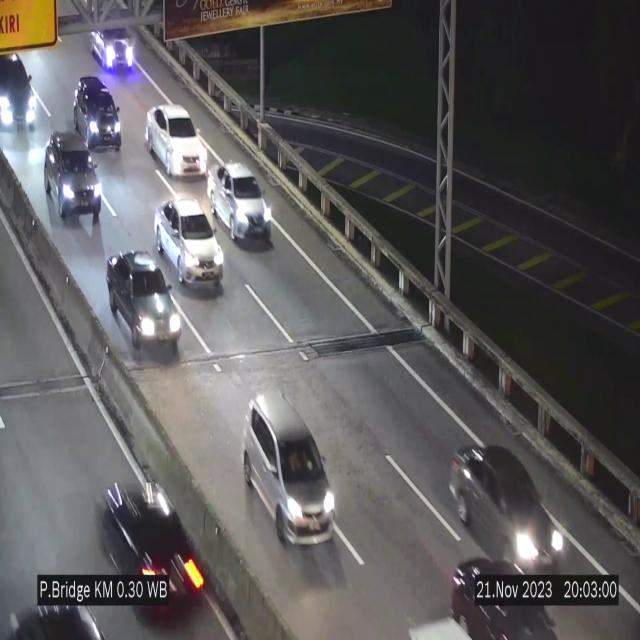Car: (99, 452, 210, 622), (240, 388, 338, 553), (450, 442, 566, 578), (448, 556, 564, 640), (106, 249, 183, 359), (155, 196, 224, 288), (38, 136, 109, 221), (208, 162, 273, 242), (146, 105, 208, 177), (73, 74, 121, 151), (0, 54, 42, 140), (87, 9, 139, 75)
